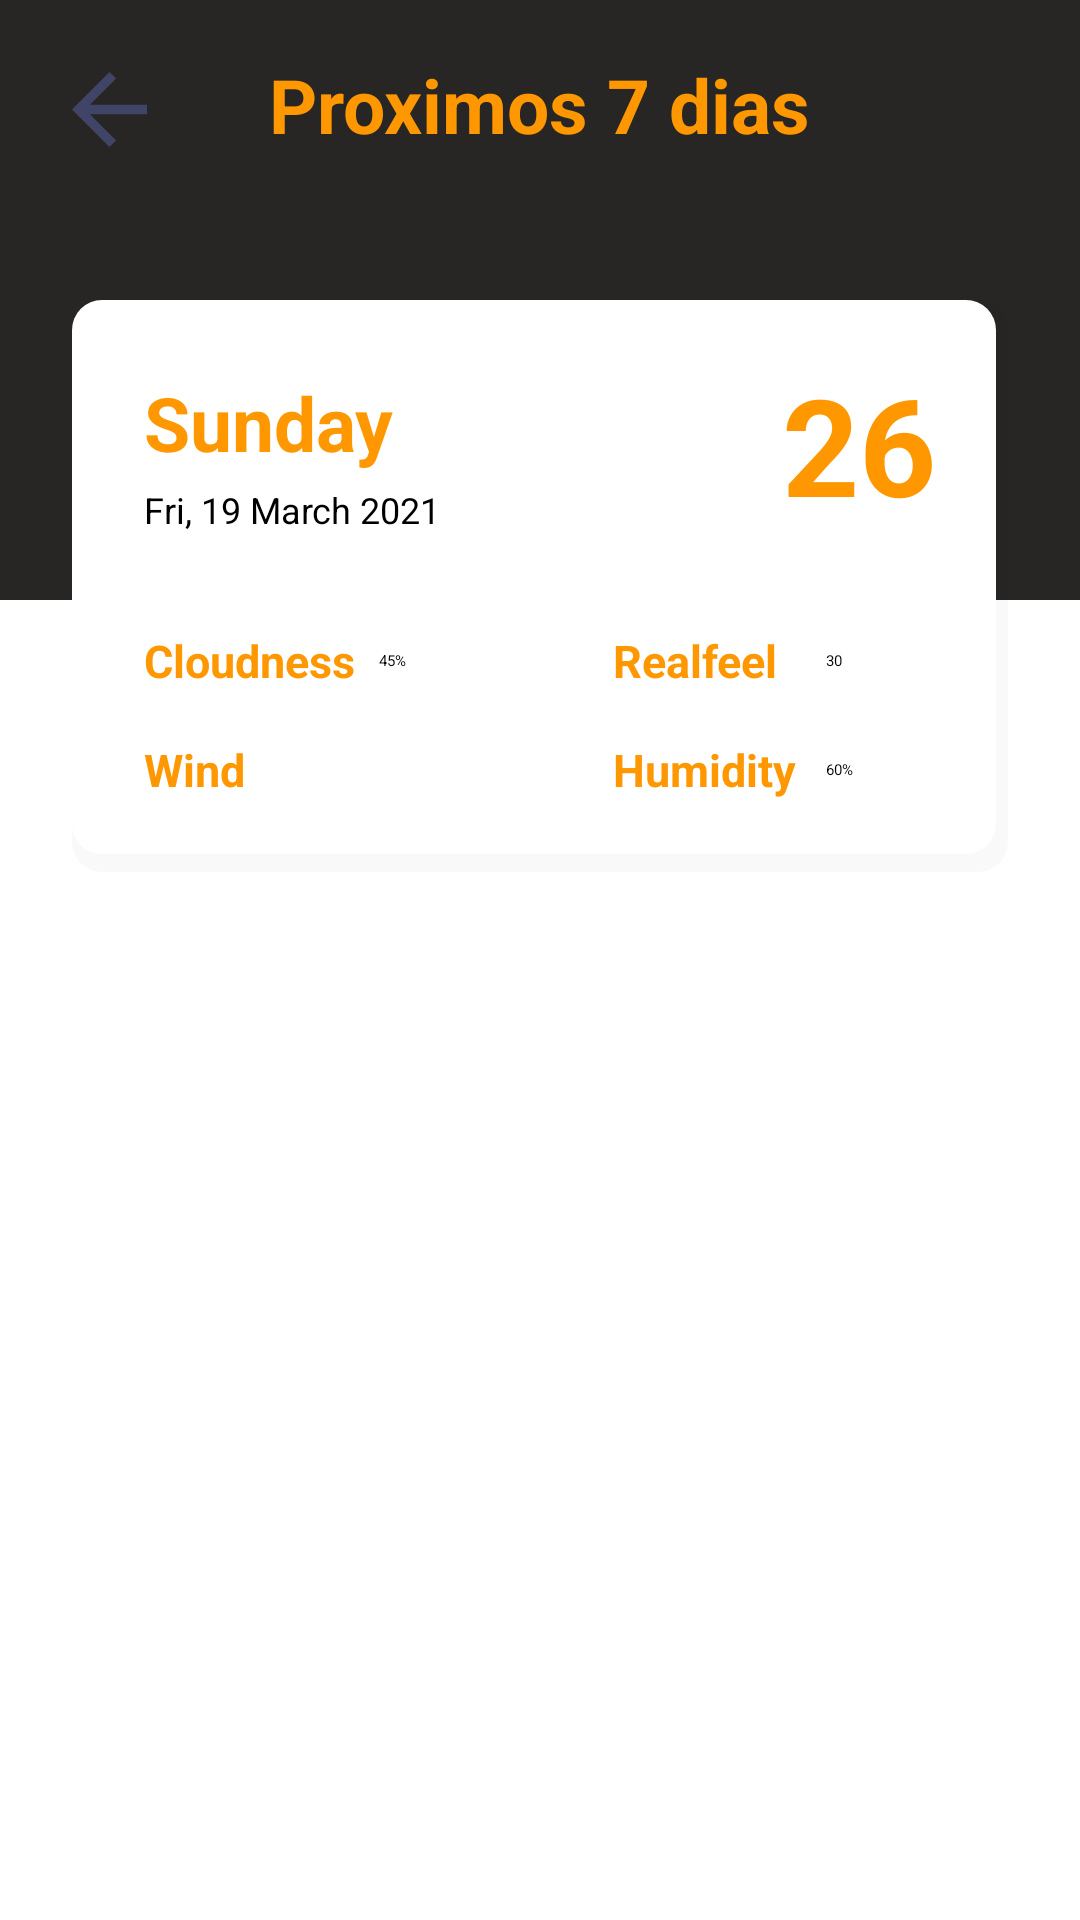

Where icons sit on this 1080w x 1920h app screen, as (x1, y1, x2, y2):
arrow back: (72, 72, 147, 147)
